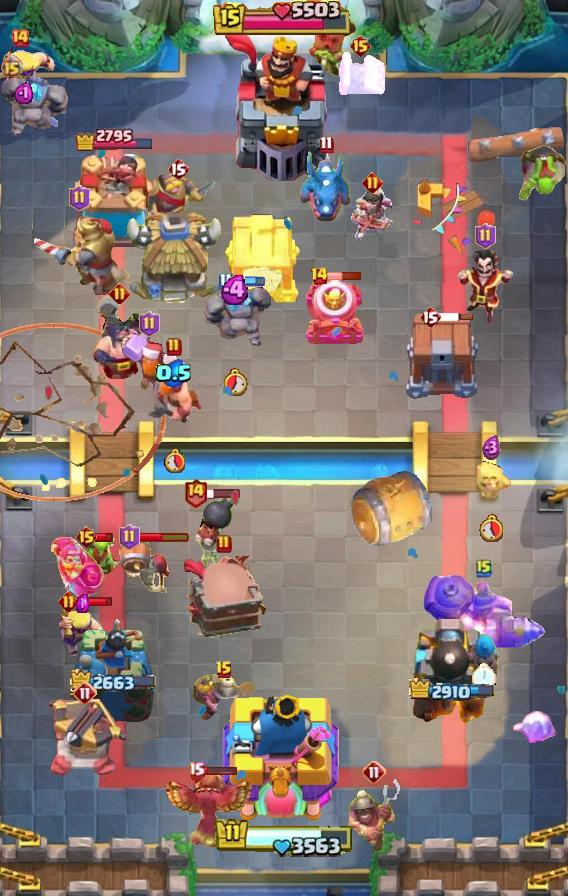bar: (137, 531, 190, 543), (205, 487, 241, 499), (77, 596, 114, 607), (230, 276, 266, 287), (203, 765, 238, 776), (438, 312, 474, 322), (327, 271, 362, 281), (95, 532, 114, 543)
bar-level: (183, 477, 208, 508), (362, 760, 386, 784), (73, 681, 97, 705), (75, 525, 98, 549), (349, 34, 372, 58), (119, 524, 140, 550), (139, 311, 160, 337), (475, 223, 496, 249), (69, 185, 90, 211), (0, 55, 23, 78), (419, 305, 441, 329), (167, 157, 189, 181), (58, 591, 79, 612), (109, 283, 130, 304), (362, 172, 383, 193), (10, 28, 30, 48), (310, 266, 329, 286), (215, 660, 233, 680), (188, 761, 205, 780), (476, 558, 492, 578), (216, 534, 232, 554), (166, 337, 182, 357), (218, 272, 233, 291), (319, 135, 334, 154)
barbarian-evolution: (0, 47, 56, 100), (56, 606, 108, 656)
bomber: (190, 491, 238, 573)
cannoneer-tower: (406, 611, 500, 731)
clock: (472, 663, 497, 692), (479, 514, 503, 542), (224, 368, 248, 396), (164, 448, 185, 473)
dart-goblin: (300, 14, 358, 80)
electro-dragon: (298, 149, 354, 223)
electro-wizard: (454, 250, 516, 326)
elixir: (155, 359, 193, 388), (220, 275, 252, 305), (482, 435, 501, 461), (14, 81, 33, 104), (76, 594, 89, 613)
executioner: (90, 294, 148, 380)
goblin: (84, 534, 124, 576)
goblin-ball: (518, 142, 568, 202)
golemite: (200, 281, 272, 349), (0, 71, 72, 139)
heal-spirit: (469, 458, 513, 498)
ice-spirit-evolution: (511, 711, 561, 749)
king-tower: (223, 31, 345, 181), (223, 689, 345, 826)
king-tower-bar: (214, 818, 354, 859), (213, 0, 355, 38)
knight: (140, 172, 216, 231)
knight-evolution: (51, 536, 105, 599)
lumberjack: (117, 330, 181, 400), (145, 353, 203, 425)
miner: (345, 777, 403, 855), (192, 671, 256, 725)
mortar-evolution: (303, 278, 367, 348)
princess: (348, 183, 396, 245)
queen-tower: (70, 616, 158, 731), (66, 154, 162, 256)
tesla: (334, 48, 386, 98)
the-log: (466, 125, 568, 173)
tower-bar: (409, 678, 497, 704), (70, 669, 158, 695), (74, 126, 155, 151)
wall-breaker: (116, 537, 172, 595)
